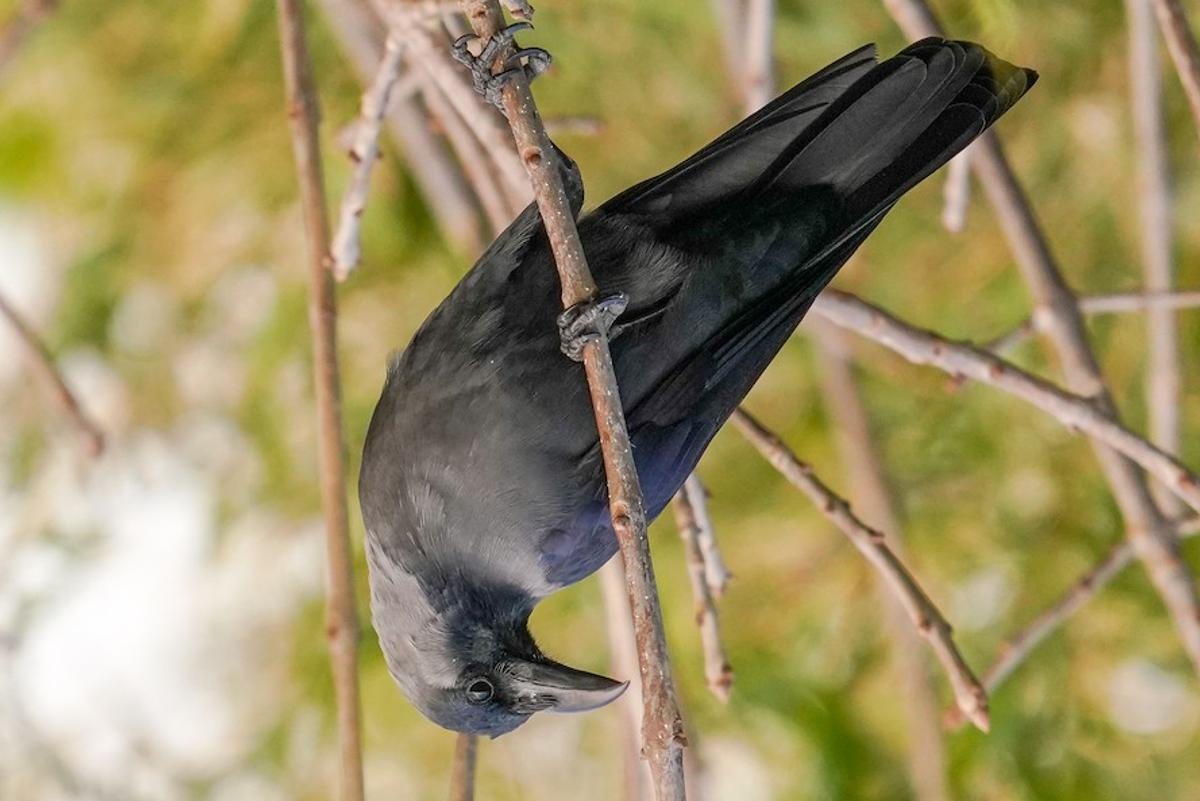crow: (346, 31, 1047, 742)
